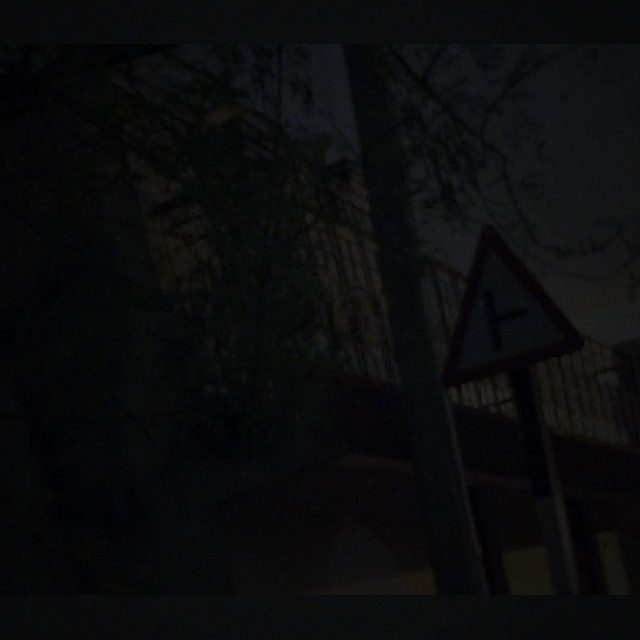Side_Road_Right: (436, 218, 594, 391)
